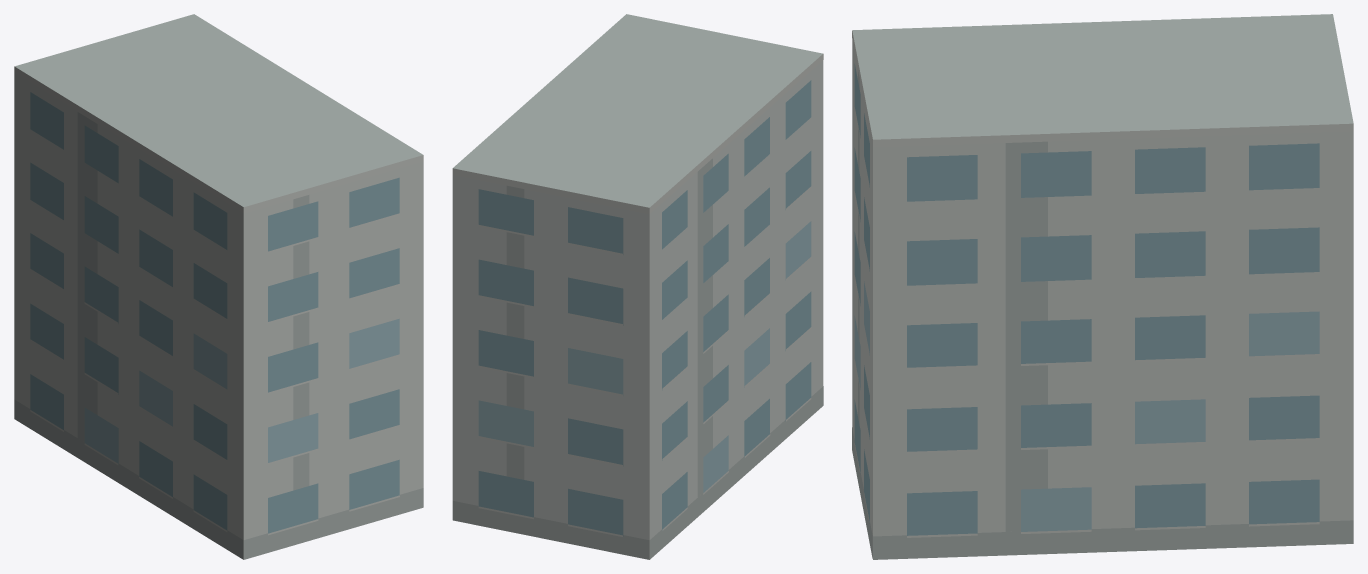
The model's file is survey-upis-32890996.glb.
3 views of the same model, side by side, from view 1: azimuth 30°, elevation 25°; view 2: azimuth 150°, elevation 25°; view 3: azimuth 270°, elevation 25° (orthographic). The views are drawn at different scales.
Visible parts, largest first — view 1: survey-upis-32890996.tmp; view 2: survey-upis-32890996.tmp; view 3: survey-upis-32890996.tmp.
Part boxes in pixels (left/top/right/bottom): survey-upis-32890996.tmp: left=14, top=14, right=423, bottom=559; survey-upis-32890996.tmp: left=452, top=14, right=823, bottom=559; survey-upis-32890996.tmp: left=852, top=14, right=1353, bottom=559.
Size of the model in its own units: 8.48 by 13.2 by 14.29.
